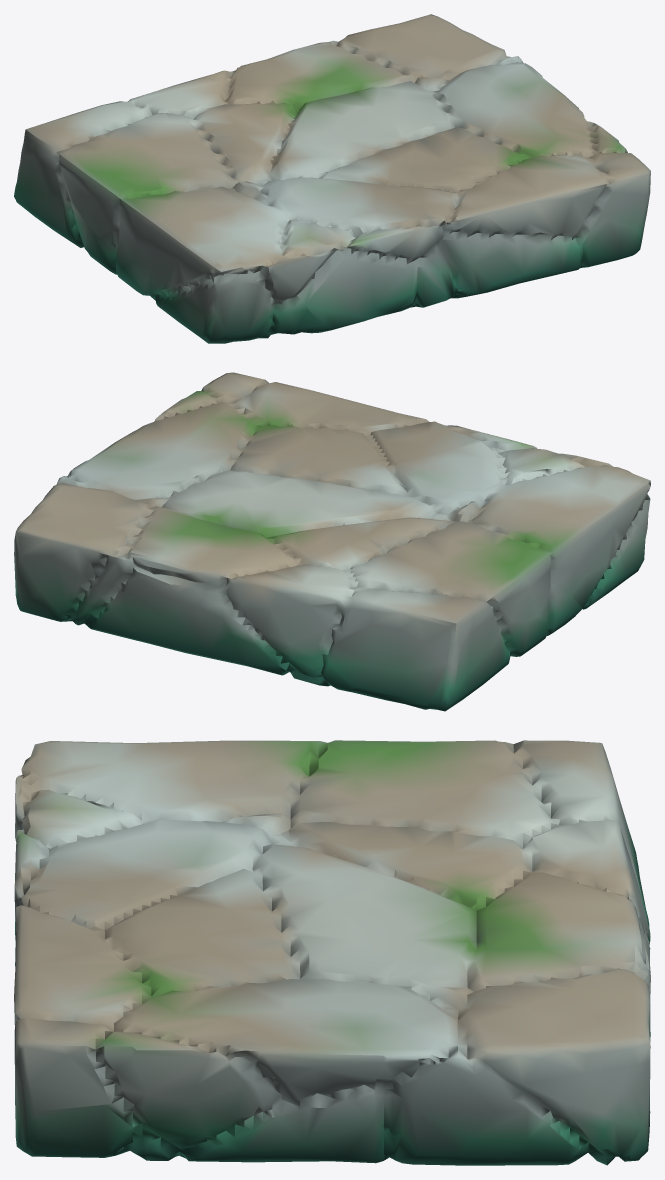
Rendered from grotto_flagstone.glb.
3 renders of one model, top to bottom at view 1: azimuth 30°, elevation 25°; view 2: azimuth 150°, elevation 25°; view 3: azimuth 270°, elevation 25°, orthographic. The views are drawn at different scales.
Parts seen in each view (by area): view 1: grotto_flagstone; view 2: grotto_flagstone; view 3: grotto_flagstone.
Part boxes in pixels (x1=…): grotto_flagstone: x1=14, y1=14, x2=650, y2=343; grotto_flagstone: x1=14, y1=372, x2=650, y2=711; grotto_flagstone: x1=14, y1=740, x2=650, y2=1165.
Bounding box in the file's own units: 17.86 × 3.3 × 15.07.
